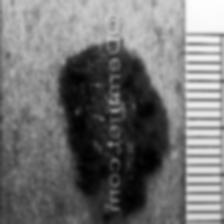Potentially Malignant Skin Tumors: (124, 55, 168, 217), (67, 46, 105, 197)
